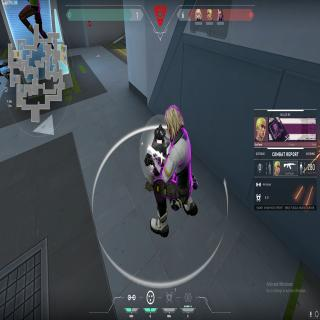ENEMY-HEAD: (162, 99, 185, 144)
